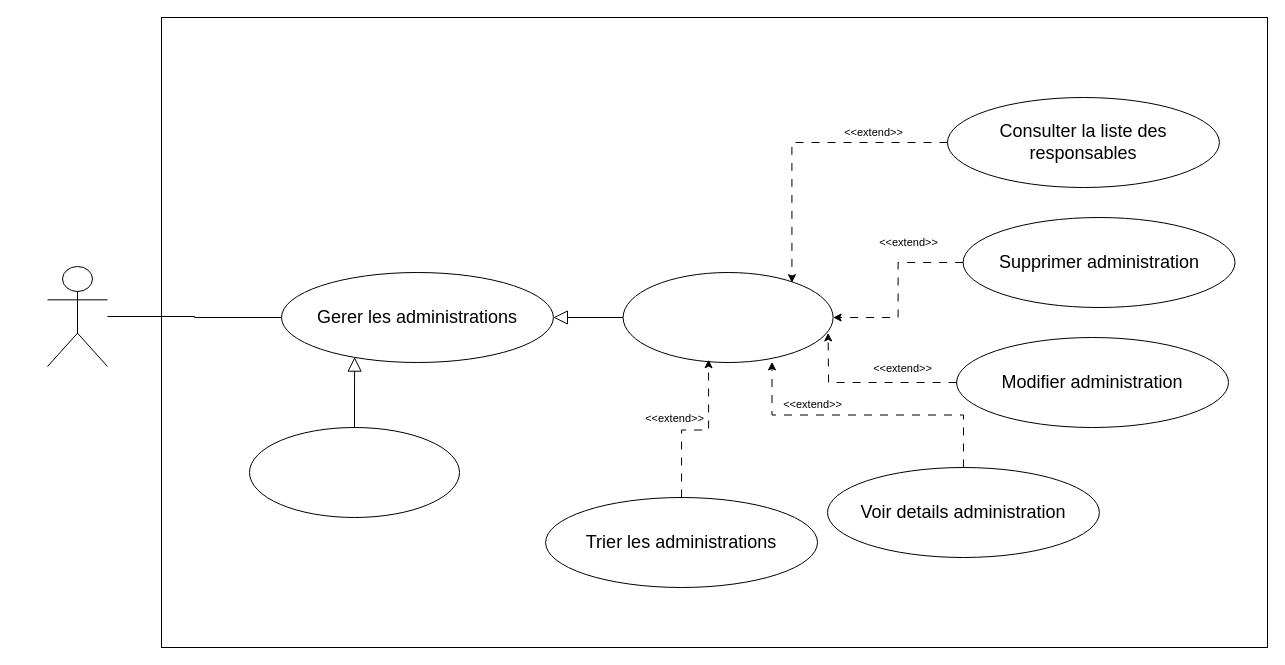
Image size: 1285x665. Some labels were removed from this diagram. Here are the shapes that lost their labels. From the top down, the centre of each, then its label:
the point at 77,316: Administrateur système
the point at 727,317: Consulter la liste des administrations
the point at 354,472: Ajouter administration
